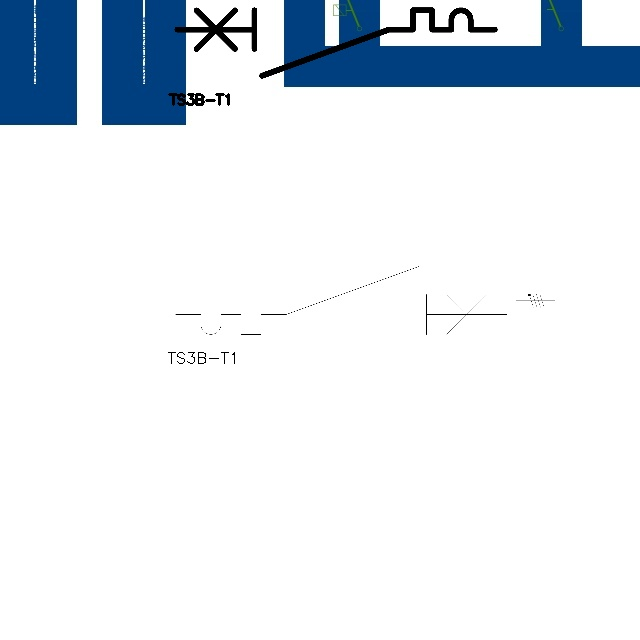interruptor_termomagnetico: (167, 258, 515, 343), (169, 2, 503, 84)
